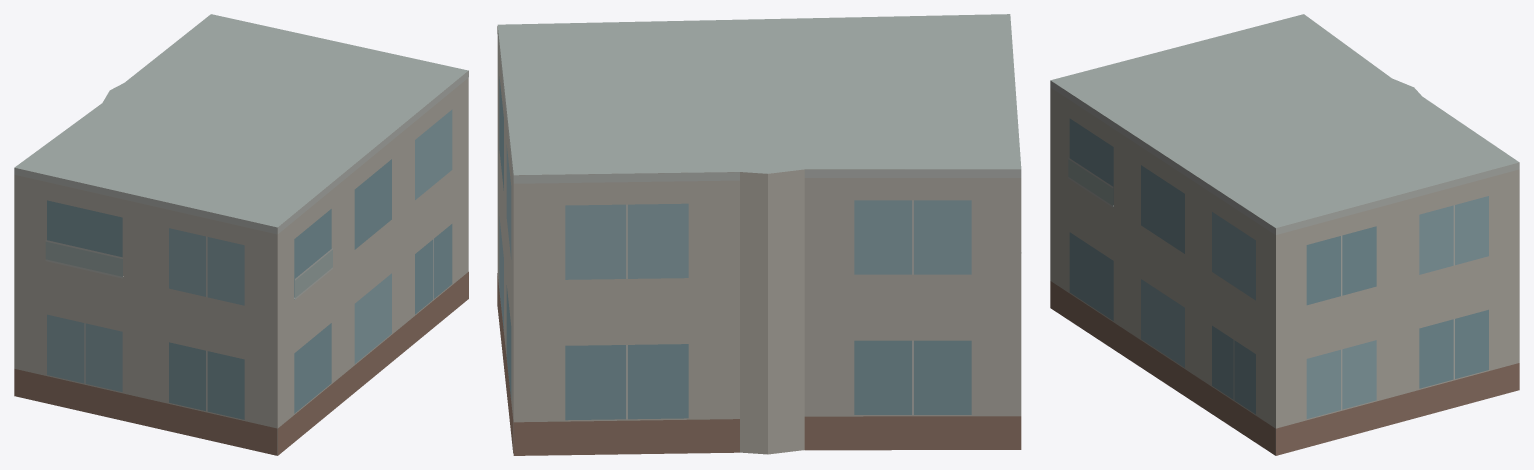
File: survey-upis-32623858.glb
3 views of the same model, side by side, from view 1: azimuth 30°, elevation 25°; view 2: azimuth 150°, elevation 25°; view 3: azimuth 270°, elevation 25° (orthographic). The views are drawn at different scales.
Parts seen in each view (by area): view 1: survey-upis-32623858.tmp; view 2: survey-upis-32623858.tmp; view 3: survey-upis-32623858.tmp.
Part boxes in pixels (x1,y1,x2,y2): survey-upis-32623858.tmp: [14, 14, 468, 455]; survey-upis-32623858.tmp: [497, 14, 1021, 455]; survey-upis-32623858.tmp: [1050, 14, 1519, 455].
Bounding box in the file's own units: 16.05 × 7.95 × 14.86.
